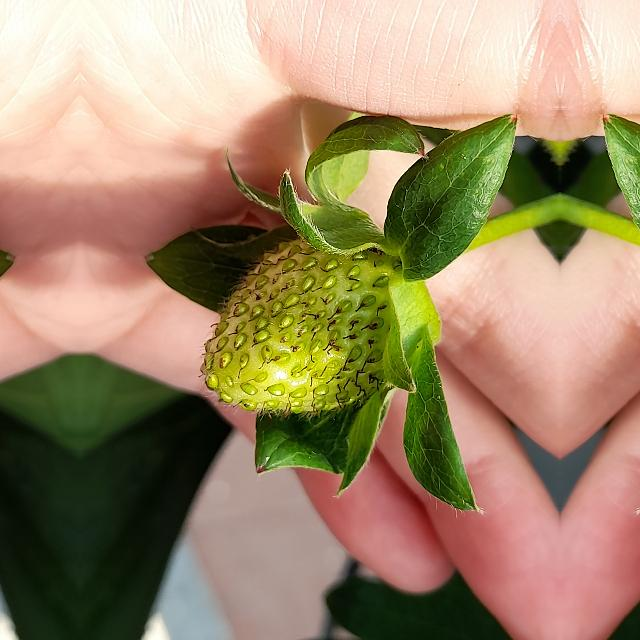Health_25: (197, 237, 403, 419)
